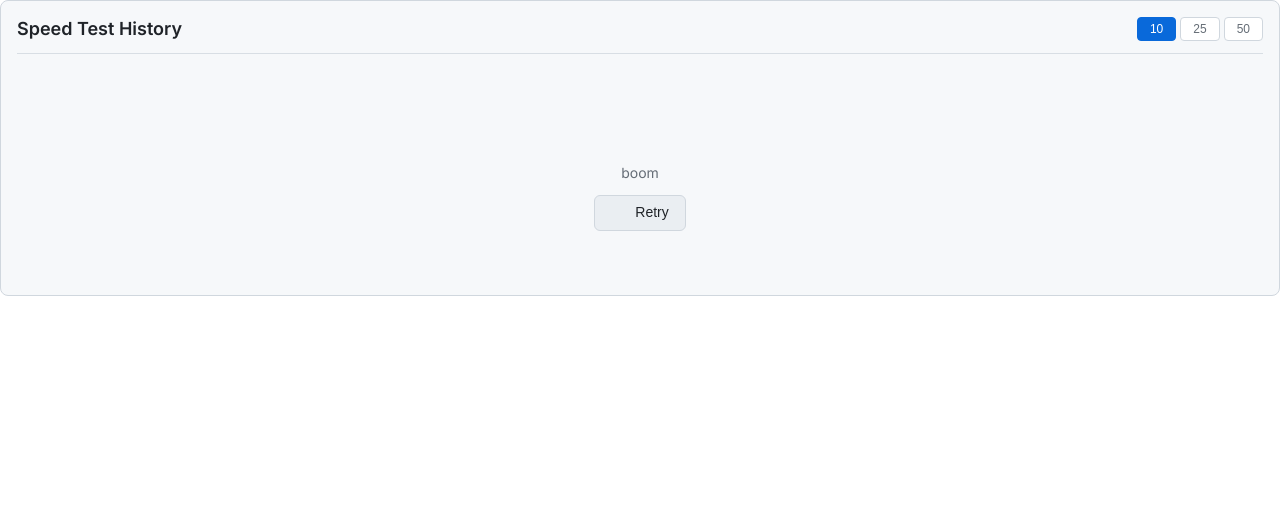
Scenario: SpeedTestHistoryCard › shows an error state with a working retry when there are no cached results
This screenshot has width=1280, height=517.
Expected: the message "boom Retry" is shown, [594,118,686,231]
Click the button "Retry" at (640, 213), box [594,195,686,231]
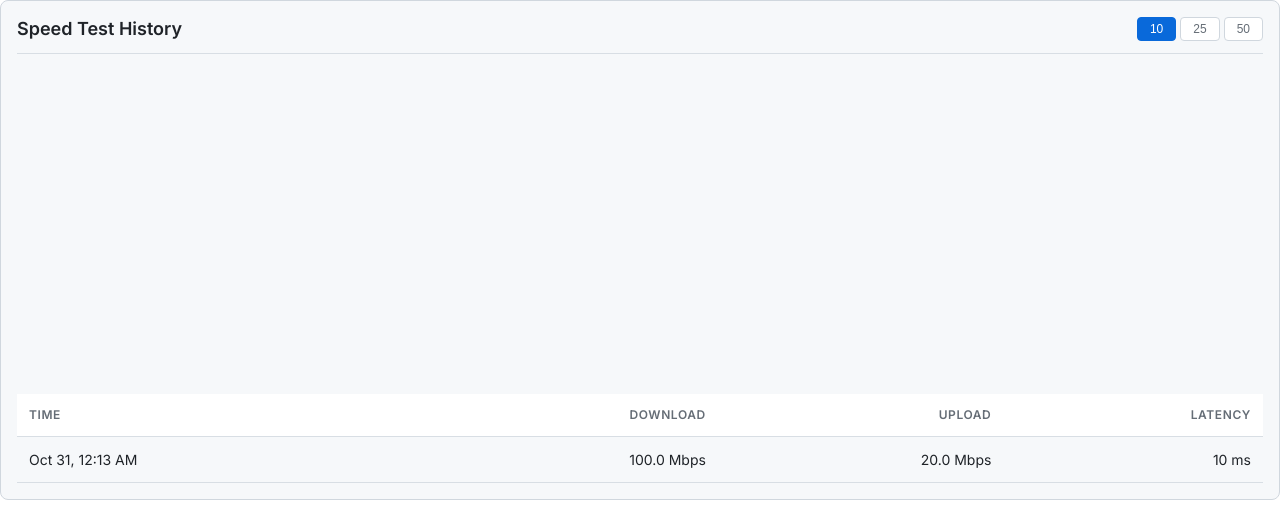
Expected: the text "100.0 Mbps" is shown, [432,436,718,482]
